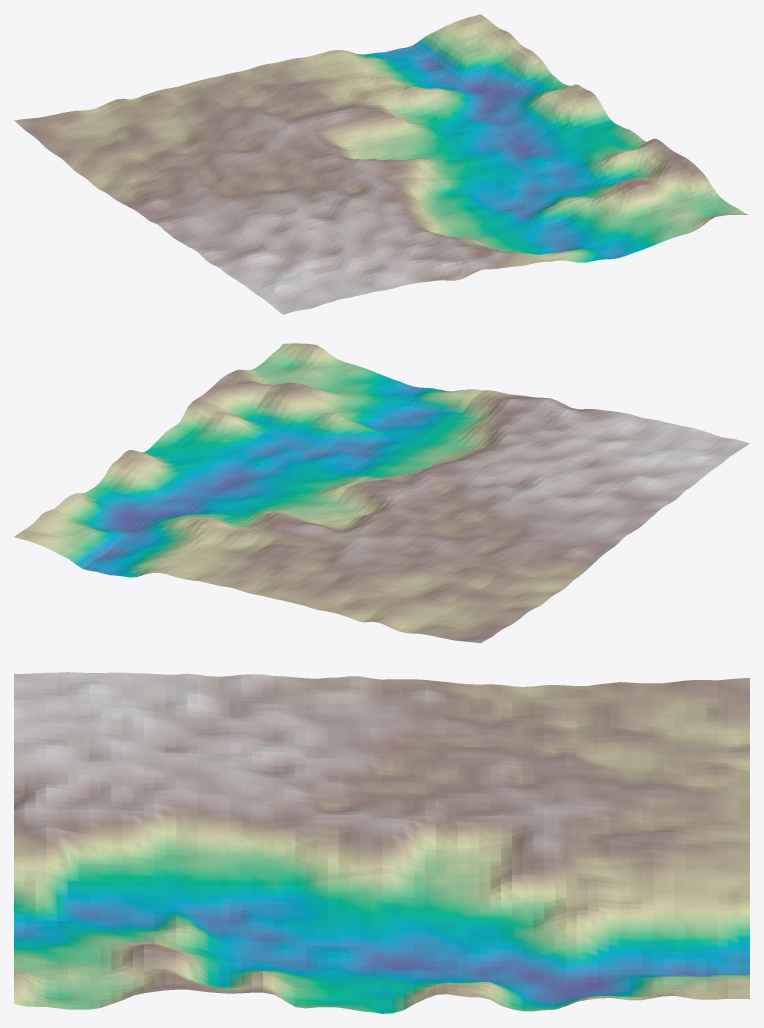
Rendered from 000705_terrain_only.glb.
The picture shows the model from 3 angles, top to bottom: view 1: azimuth 30°, elevation 25°; view 2: azimuth 150°, elevation 25°; view 3: azimuth 270°, elevation 25°; orthographic projection. The views are drawn at different scales.
Visible parts, largest first — view 1: terrain; view 2: terrain; view 3: terrain.
Boxes of the visible parts, x1,y1,x2,y2 form: terrain: (14,14,748,314); terrain: (14,343,749,643); terrain: (14,672,749,1013).
Size of the model in its own units: 0.0183 by 0.00117 by 0.0183.
